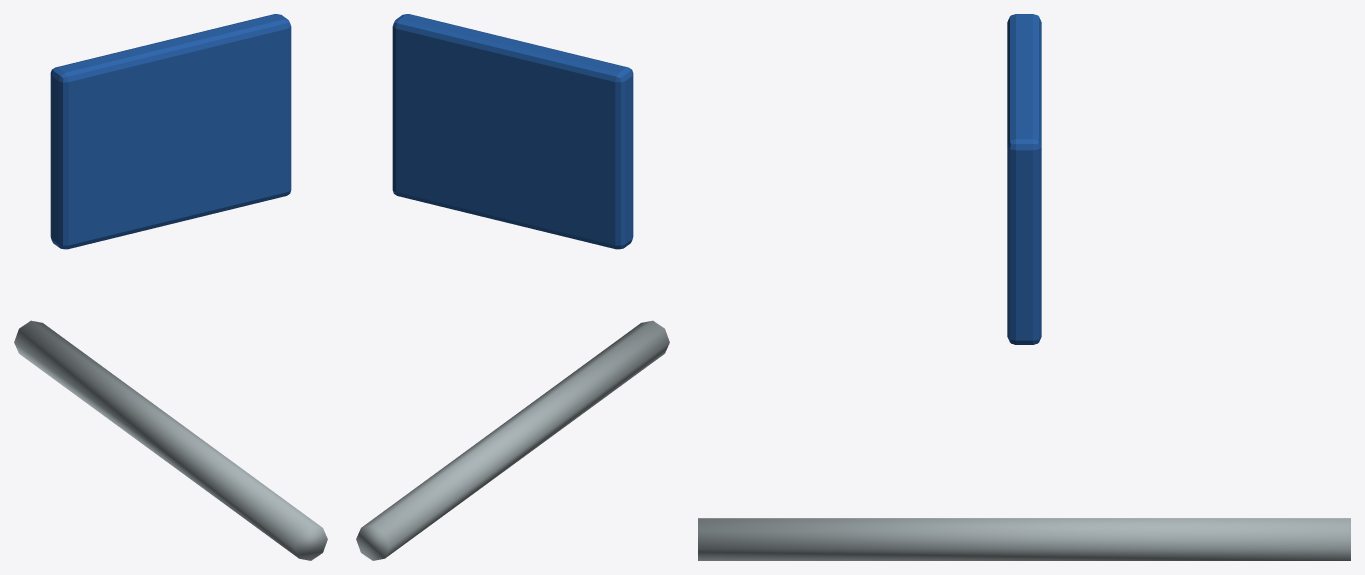
File: road_sign.glb
3 views of the same model, side by side, from view 1: azimuth 30°, elevation 25°; view 2: azimuth 150°, elevation 25°; view 3: azimuth 270°, elevation 25° (orthographic). The views are drawn at different scales.
Visible parts, largest first — view 1: sign_face, sign_pole; view 2: sign_face, sign_pole; view 3: sign_pole, sign_face.
Boxes of the visible parts, left/top/right/bottom form: sign_face: left=50, top=14, right=291, bottom=249; sign_pole: left=14, top=320, right=327, bottom=560; sign_face: left=392, top=14, right=633, bottom=249; sign_pole: left=356, top=320, right=669, bottom=560; sign_pole: left=698, top=518, right=1350, bottom=560; sign_face: left=1007, top=14, right=1041, bottom=344.
Size of the model in its own units: 0.22 by 0.376 by 0.46.
